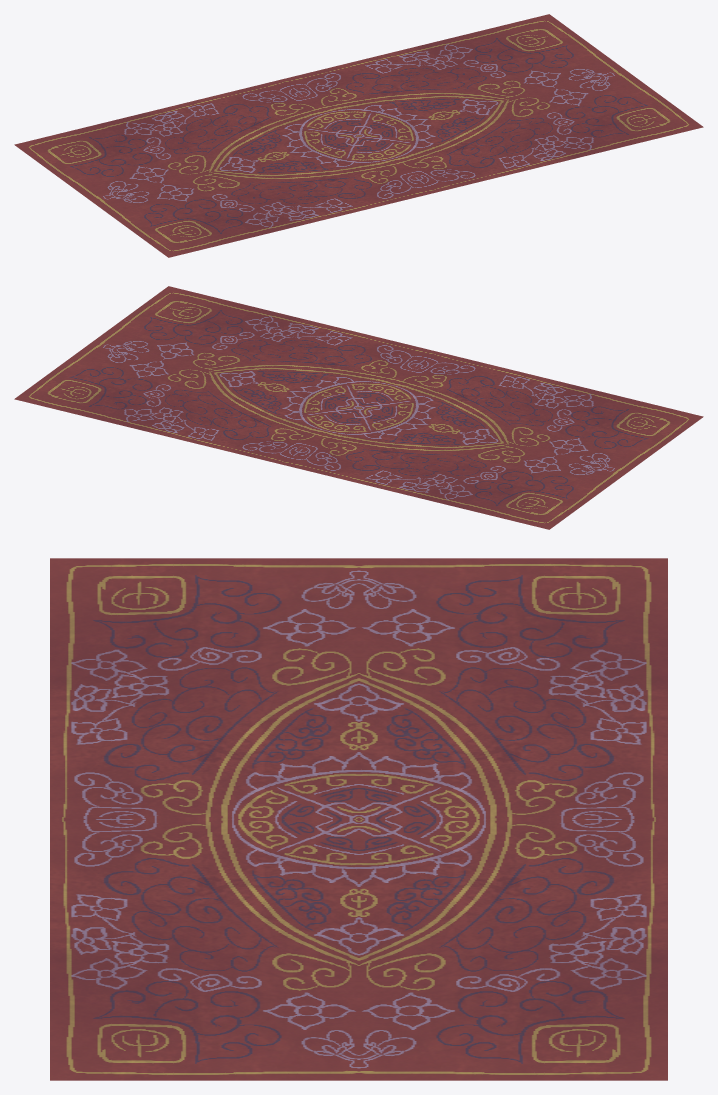
File: Rug_Ammalian.obj
The picture shows the model from 3 angles, top to bottom: view 1: azimuth 30°, elevation 25°; view 2: azimuth 150°, elevation 25°; view 3: azimuth 270°, elevation 25°; orthographic projection. The views are drawn at different scales.
Visible parts, largest first — view 1: pPlane1; view 2: pPlane1; view 3: pPlane1.
Boxes of the visible parts, bbox=[...] form: pPlane1: bbox=[14, 14, 703, 257]; pPlane1: bbox=[14, 286, 703, 529]; pPlane1: bbox=[50, 558, 667, 1080].
Bounding box in the file's own units: 8 × 0 × 4.
1 material, 1 textured.
